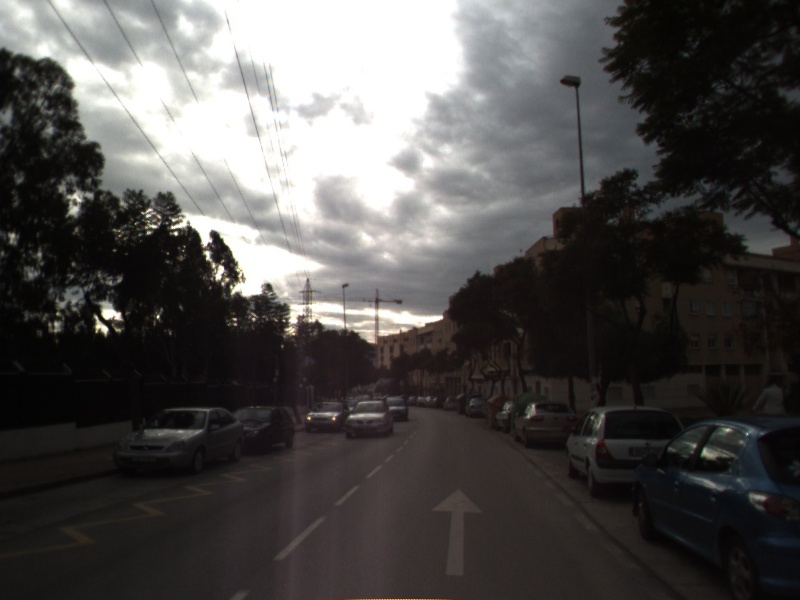STRAIGHT: (429, 487, 486, 578)
